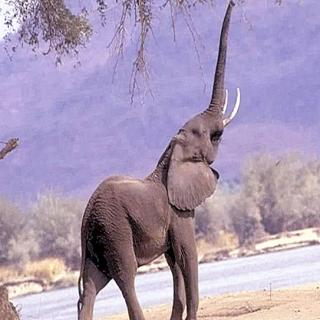Elephant: (77, 0, 244, 320)
